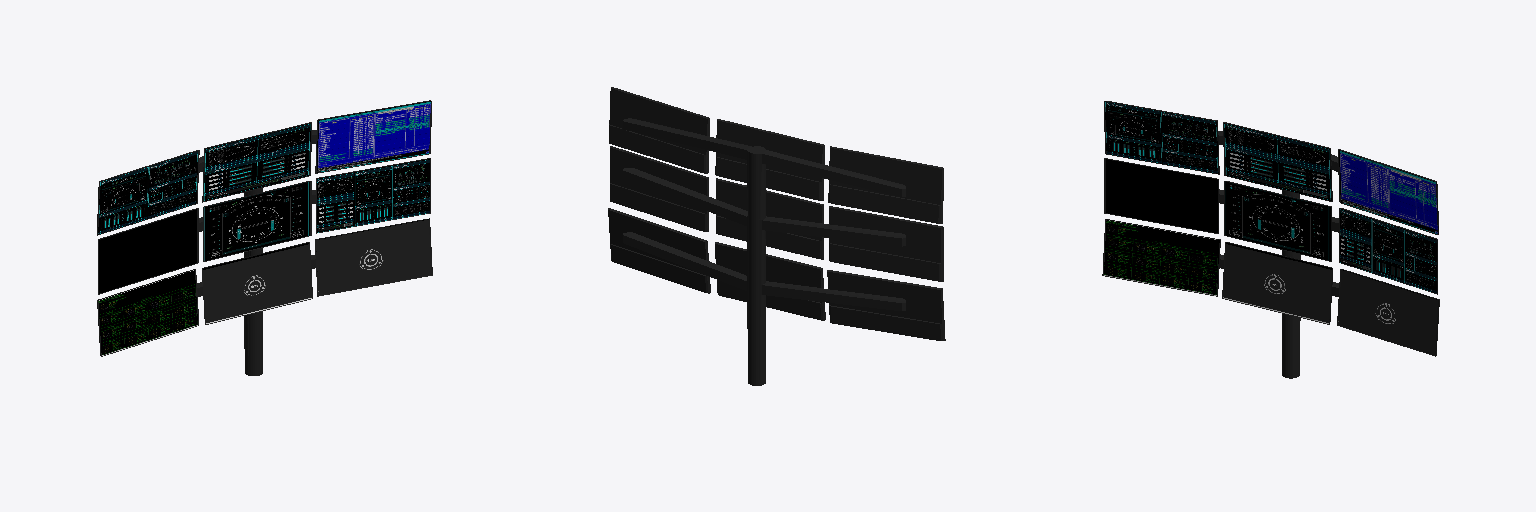
3 views of the same model, side by side, from view 1: azimuth 30°, elevation 25°; view 2: azimuth 150°, elevation 25°; view 3: azimuth 330°, elevation 25° (orthographic).
Parts seen in each view (by area): view 1: screen_Plane.004; view 2: screen_Plane.004; view 3: screen_Plane.004.
Boxes of the visible parts, x1=… form: screen_Plane.004: x1=97, y1=100, x2=432, y2=375; screen_Plane.004: x1=608, y1=87, x2=945, y2=385; screen_Plane.004: x1=1102, y1=101, x2=1439, y2=378.
Size of the model in its own units: 4.62 by 3.24 by 0.5371.
Materials: 1 (1 with a texture image).